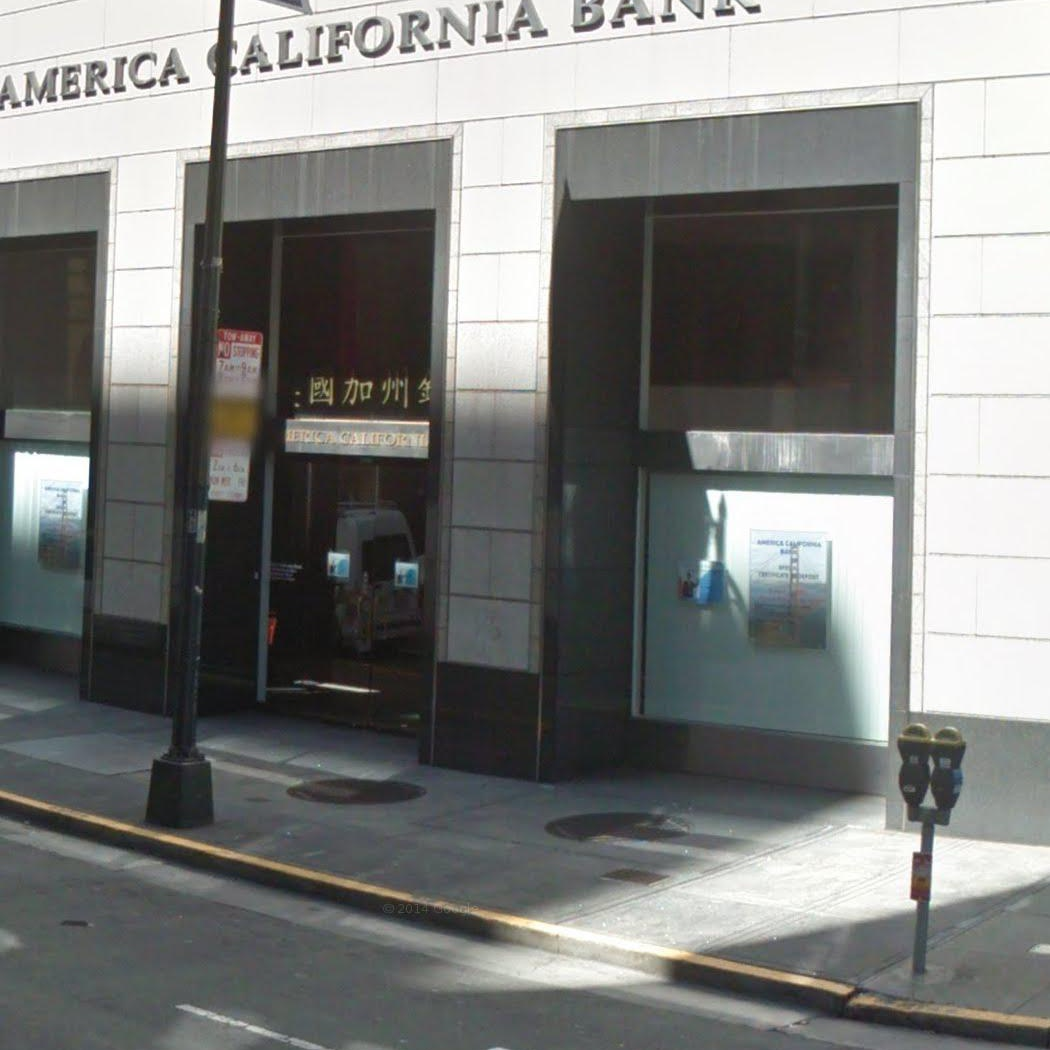No Parking: (207, 431, 251, 503)
